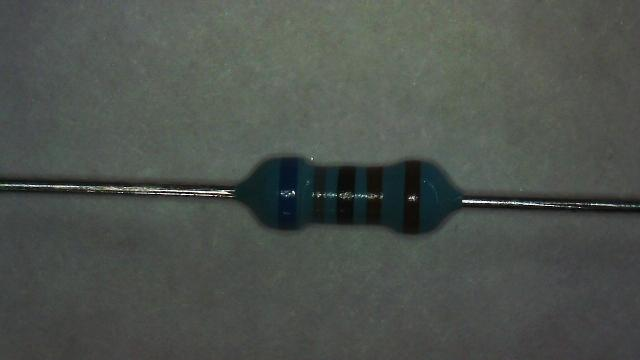black: (336, 166, 354, 224)
blue: (278, 158, 298, 229)
brown: (403, 160, 420, 233), (366, 167, 382, 223)
grey: (312, 166, 328, 222)
resistor: (236, 143, 466, 245)
